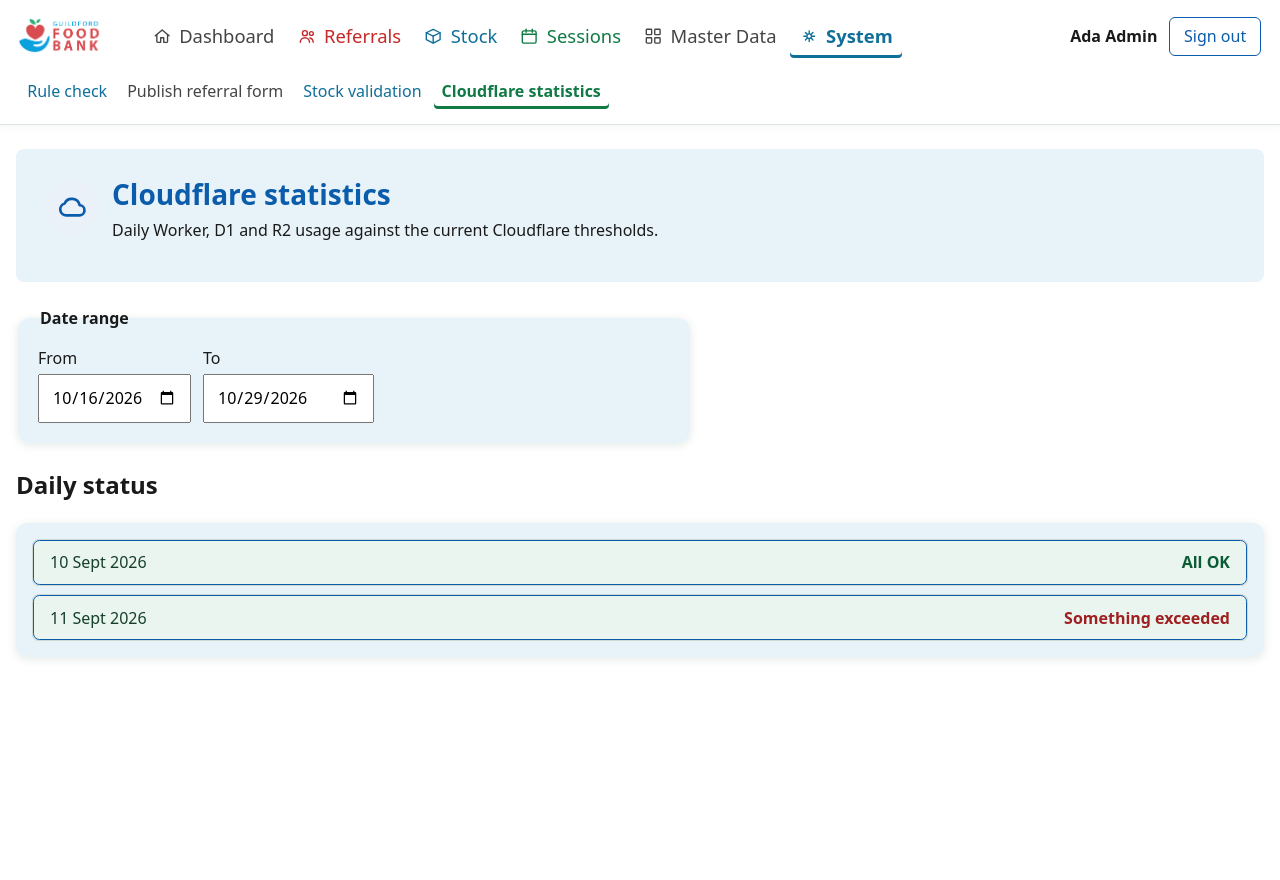
Test: the Cloudflare statistics screen › shows each date’s text status and expands threshold detail with exceeded rows plainly marked
What coordinates should you click on to do the following:
click the button "11 Sept 2026 Something exceeded"
I would click on:
 (98, 618)
Its box is [33,595,1247,640].
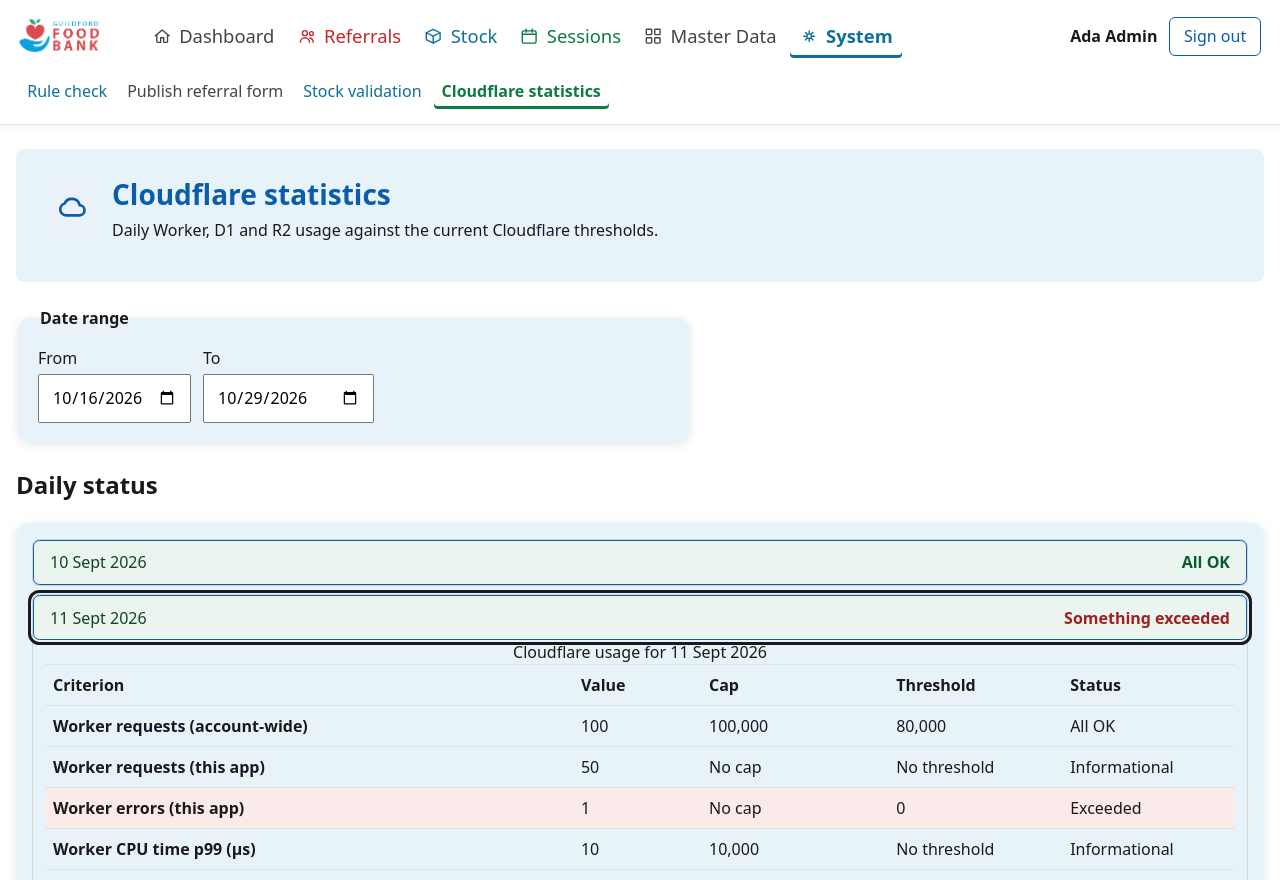
Now the column heading "Criterion" is shown, box [45,665,573,706]
Now the column heading "Value" is shown, box [573,665,701,706]
Now the column heading "Cap" is shown, box [701,665,888,706]
What coordinates should you click on to do the following:
click the button "11 Sept 2026 Something exceeded"
I would click on:
 (98, 618)
Its box is [33,595,1247,640].
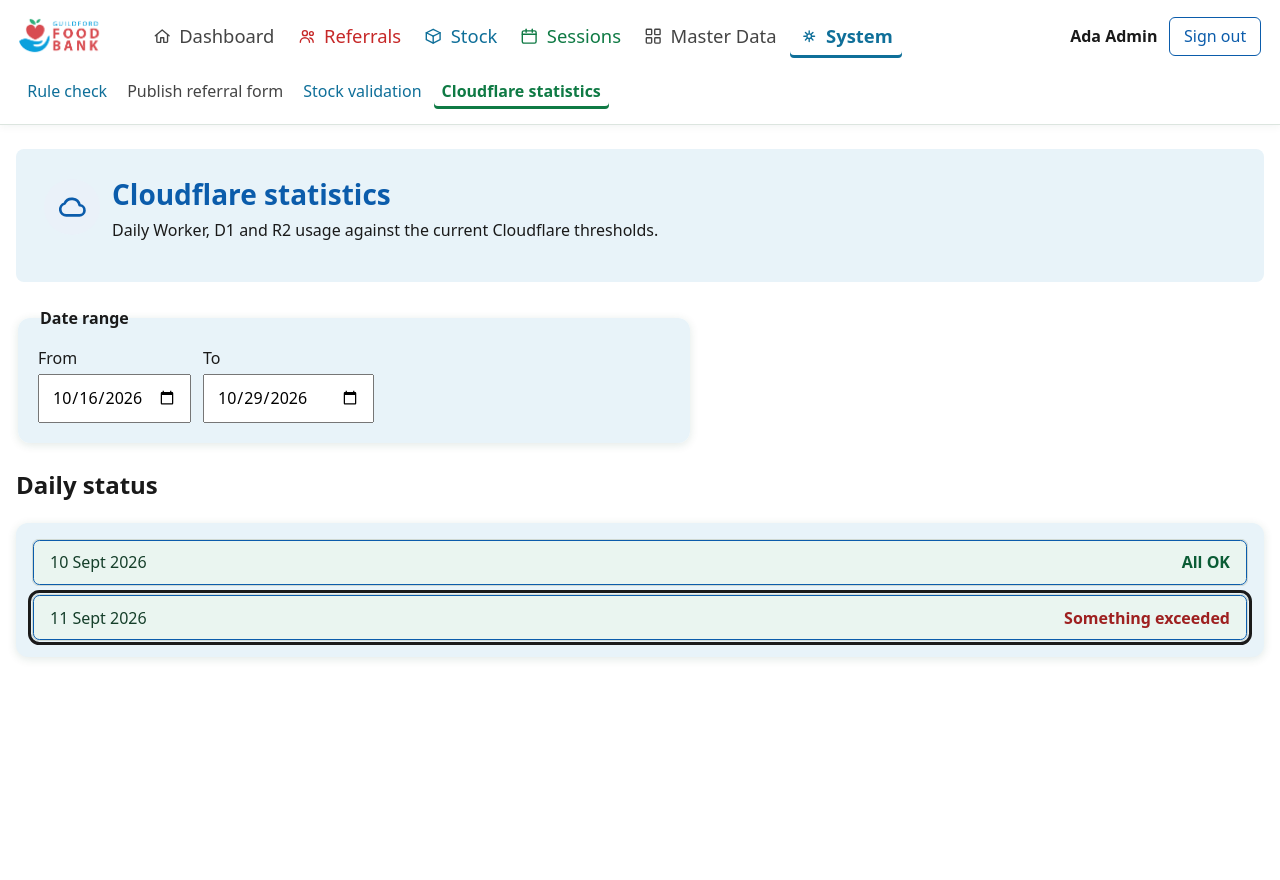
Now the text "Cloudflare usage for" is gone
